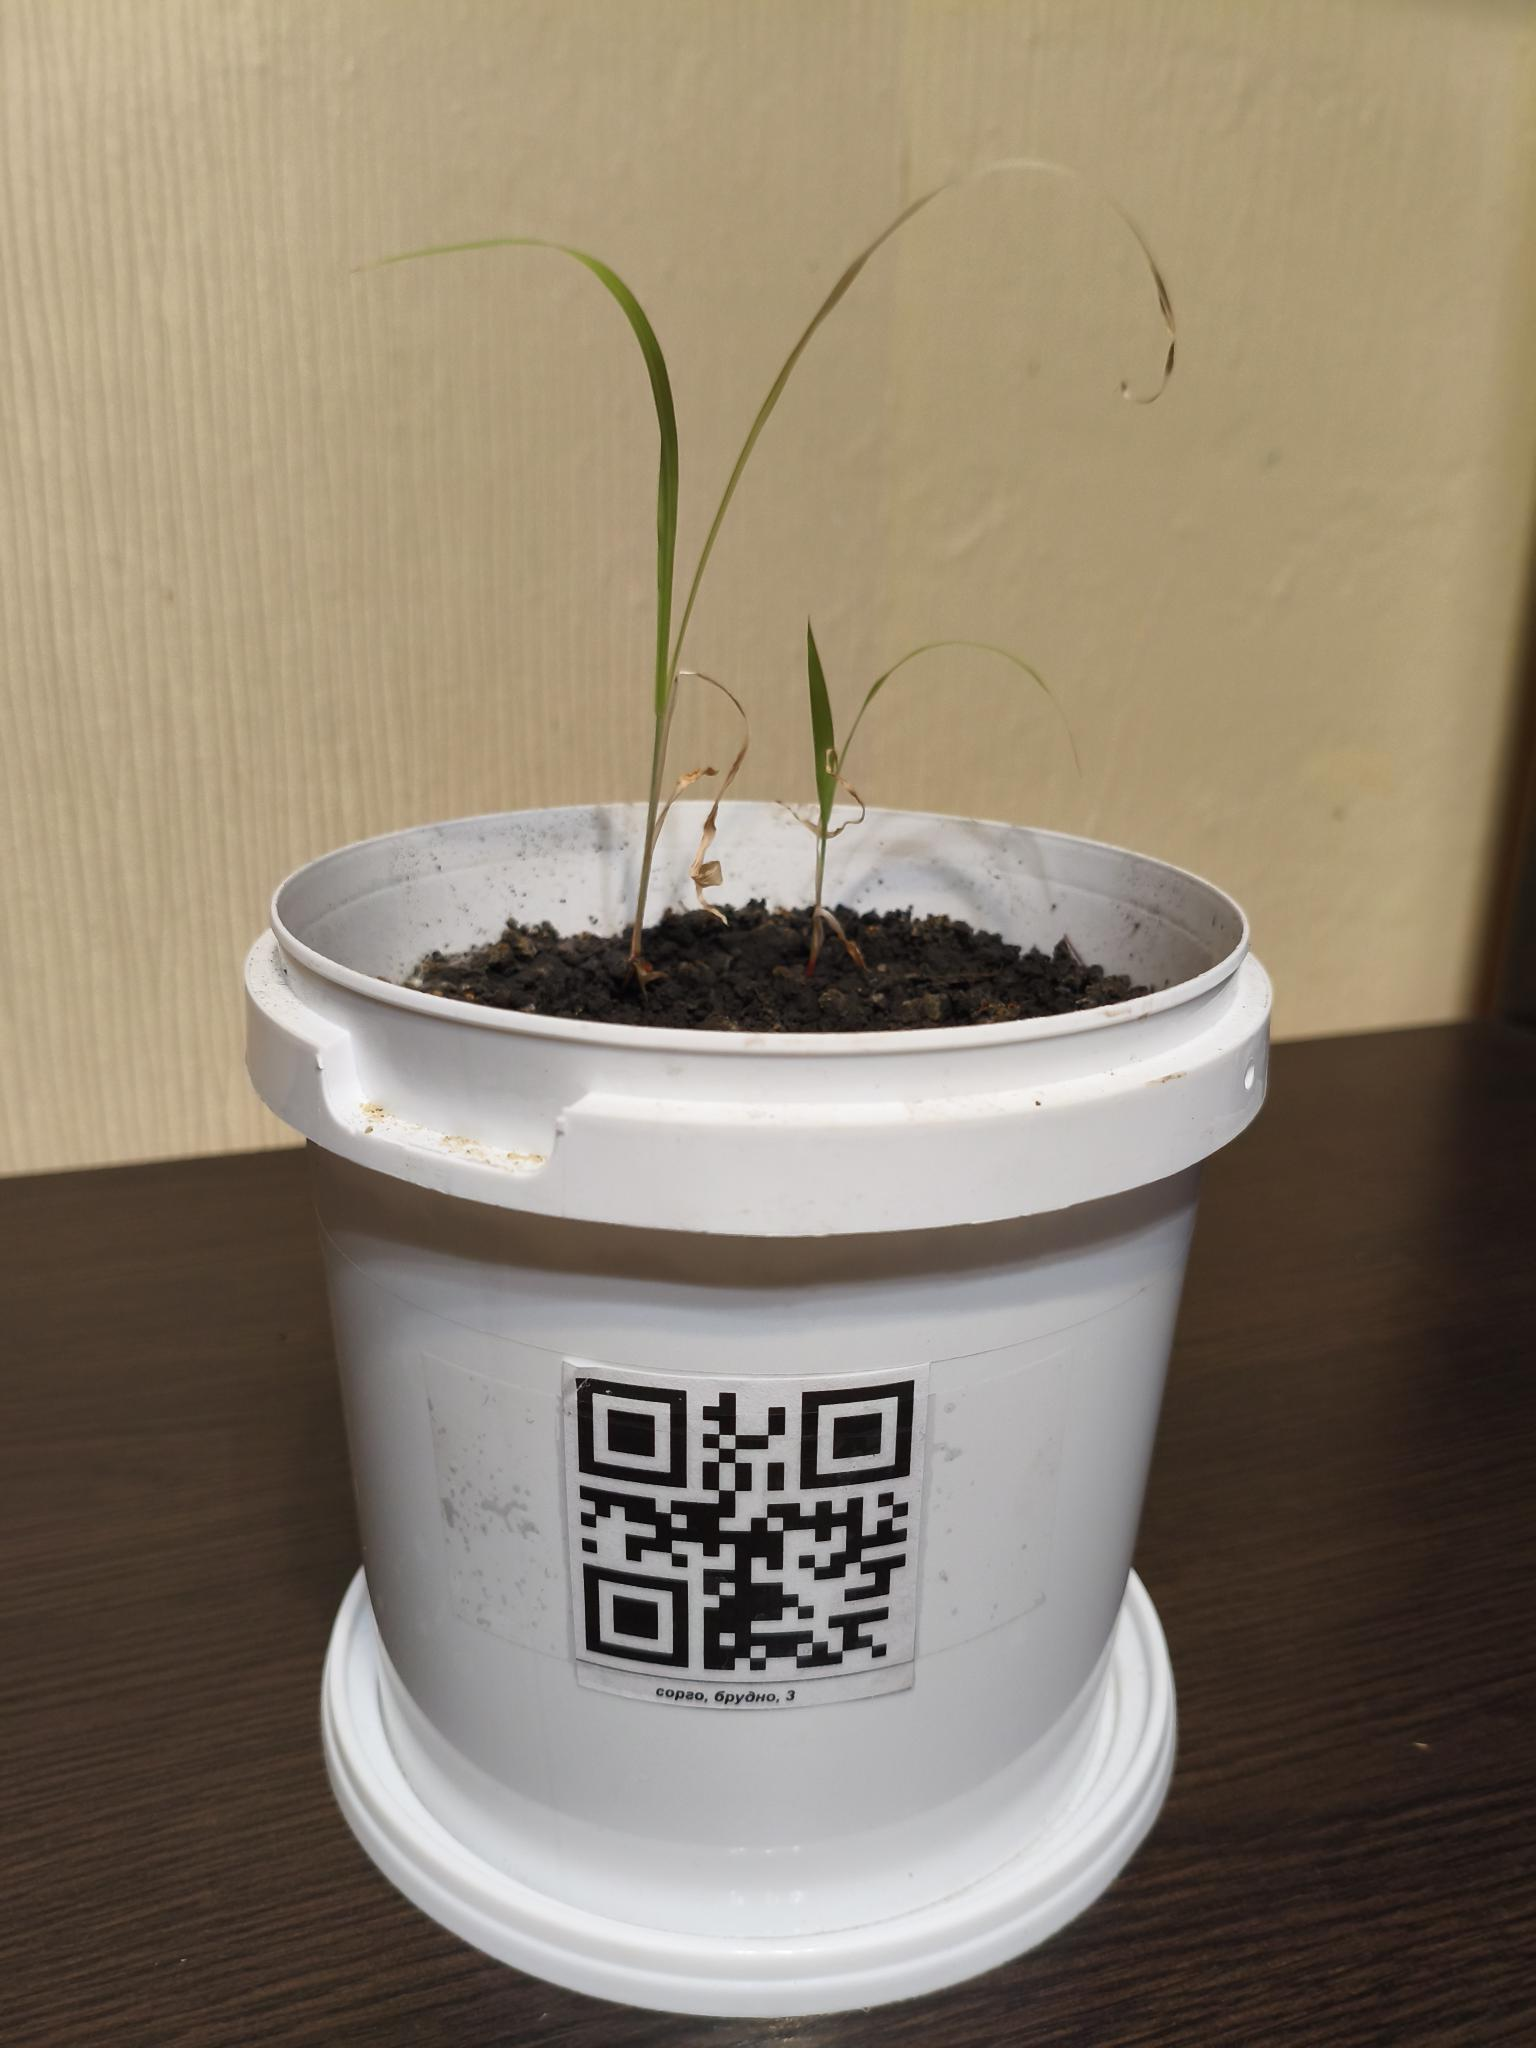container: (236, 800, 1270, 2017)
stem: (629, 710, 674, 953), (803, 819, 834, 971)
